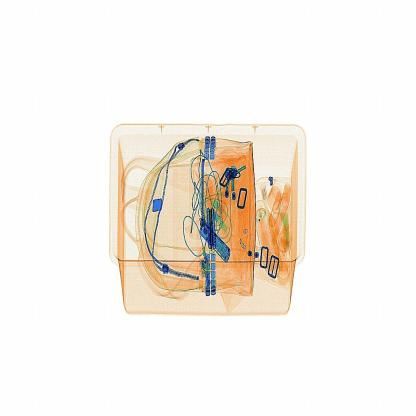scissors: (199, 204, 224, 256)
